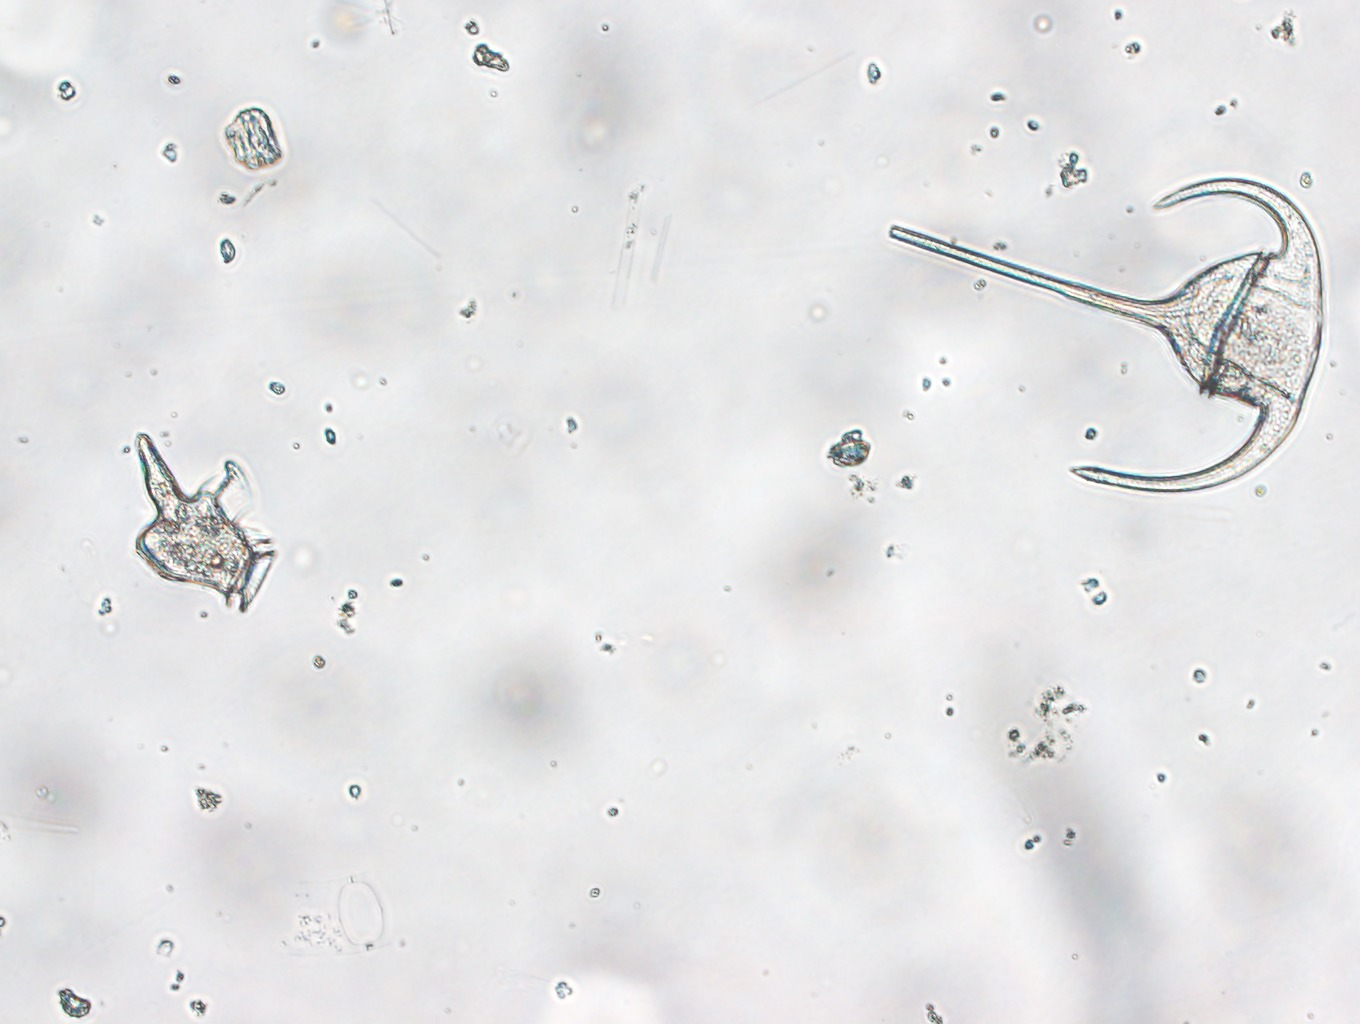ceratium trichoceros: (874, 163, 1335, 502)
dinophysis caudata: (126, 421, 290, 621)
